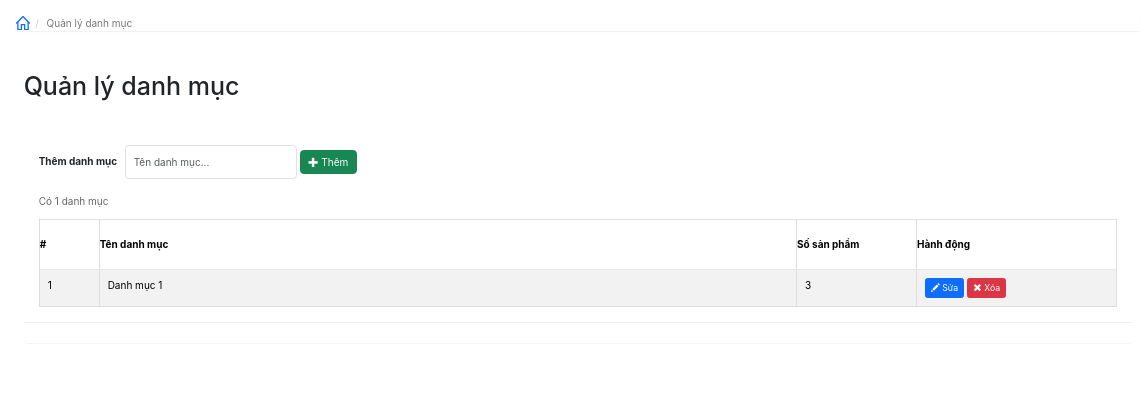
Scenario: thêm danh mục: chặn tên rỗng, gửi { name }, lỗi trùng tên hiện rõ, thành công tải lại
expect the text "Danh mục 1" is shown: met, box [99,270,796,307]
expect the text "3" is shown: met, box [796,270,916,307]
Click the button "Thêm".
click(328, 162)  # box [300,150,357,174]
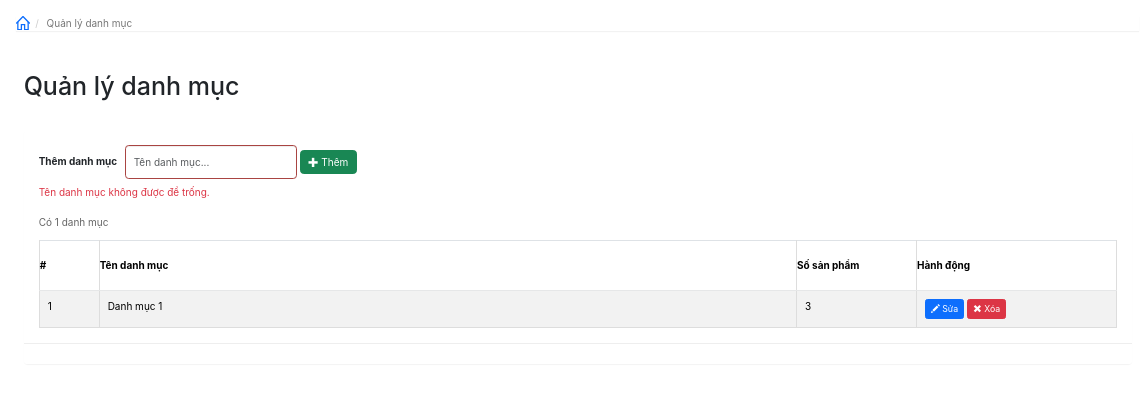
expect the text "Tên danh mục không được để trống." is shown: met, box [39,186,210,198]
Type " Phụ kiện " into the field labelled "Thêm danh mục".
click(211, 162); type(" Phụ kiện ")  # box [125,145,297,179]
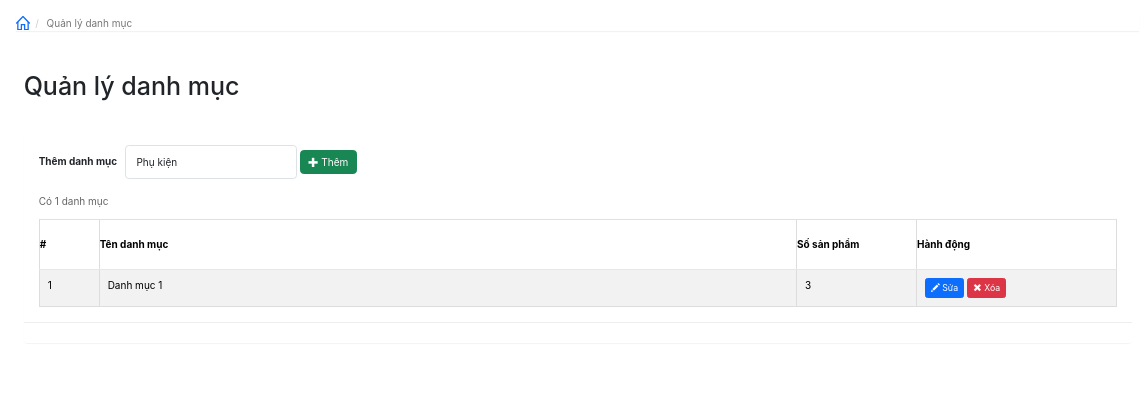
Click the button "Thêm".
click(328, 162)  # box [300,150,357,174]
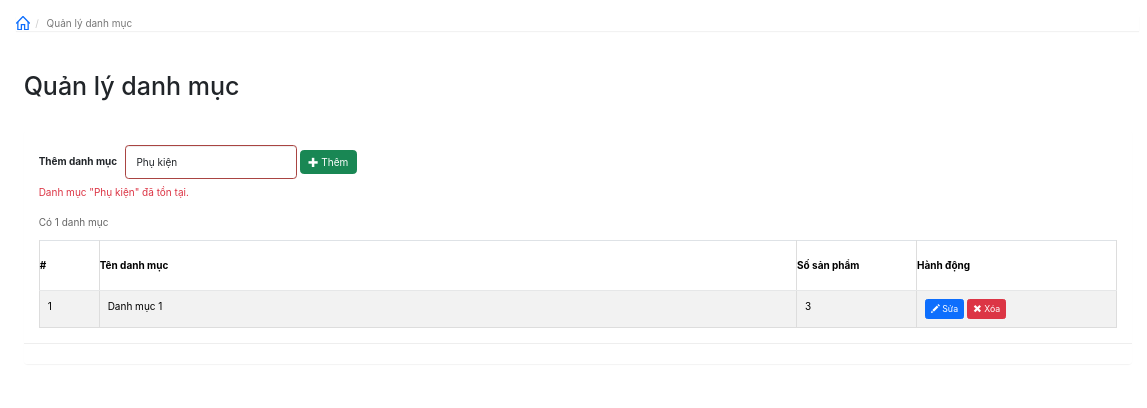
expect the text "Danh mục \"Phụ kiện\" đã tồn tại." is shown: met, box [39,186,189,198]
Click the button "Thêm".
click(328, 162)  # box [300,150,357,174]
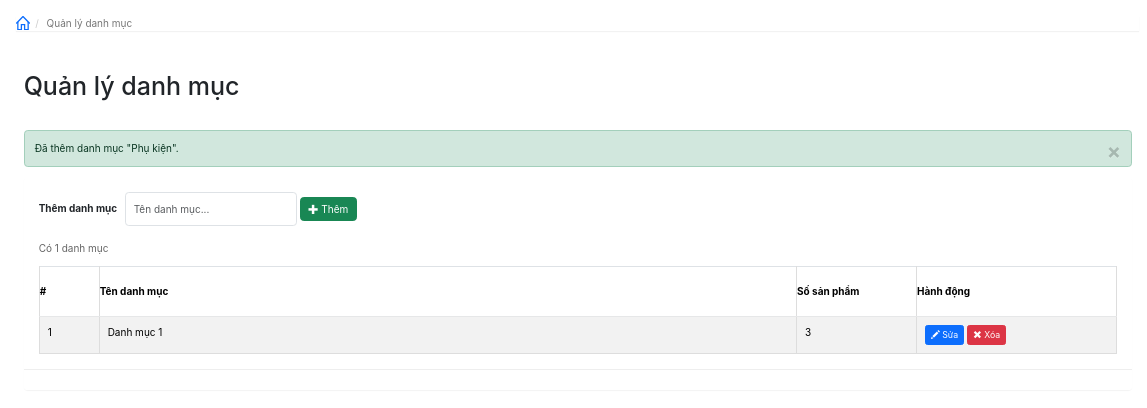
expect the text "Đã thêm danh mục \"Phụ kiện\"." is shown: met, box [35,142,179,154]
